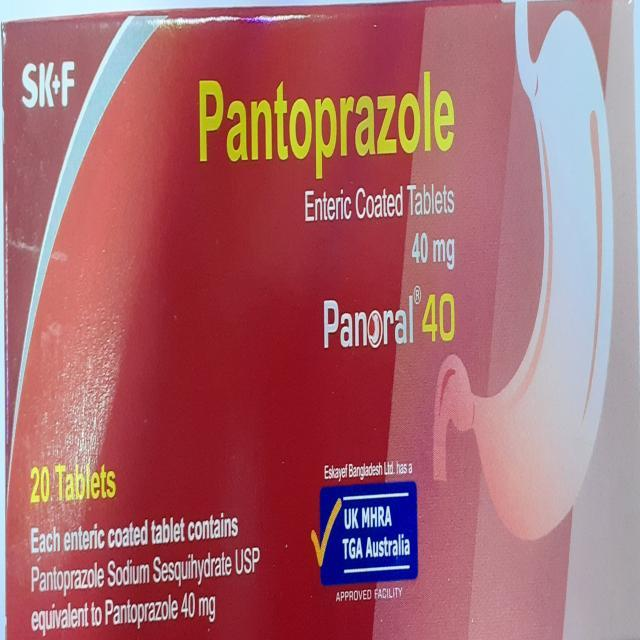drug-name: (194, 72, 458, 174)
